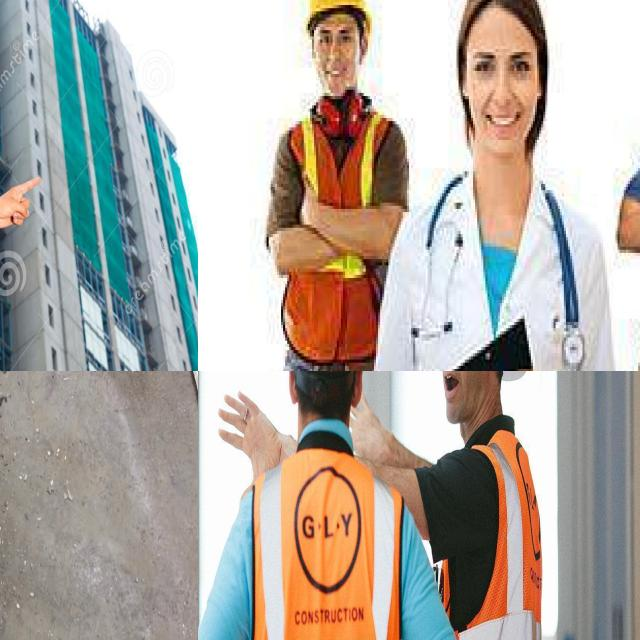No_Ear-Protection: (349, 371, 367, 412), (285, 371, 301, 405)
face_nomask: (469, 36, 535, 137), (316, 17, 364, 93), (426, 371, 484, 422)
hand_noglove: (211, 376, 292, 498), (348, 394, 402, 458), (0, 166, 36, 237)
head_helmet: (309, 0, 373, 24)
head_nohelmet: (444, 0, 557, 45)
person: (388, 0, 617, 371), (234, 371, 417, 640), (275, 0, 407, 371), (415, 371, 549, 640), (470, 42, 536, 86)
vest: (271, 96, 409, 356), (250, 444, 411, 640), (418, 434, 543, 640)
